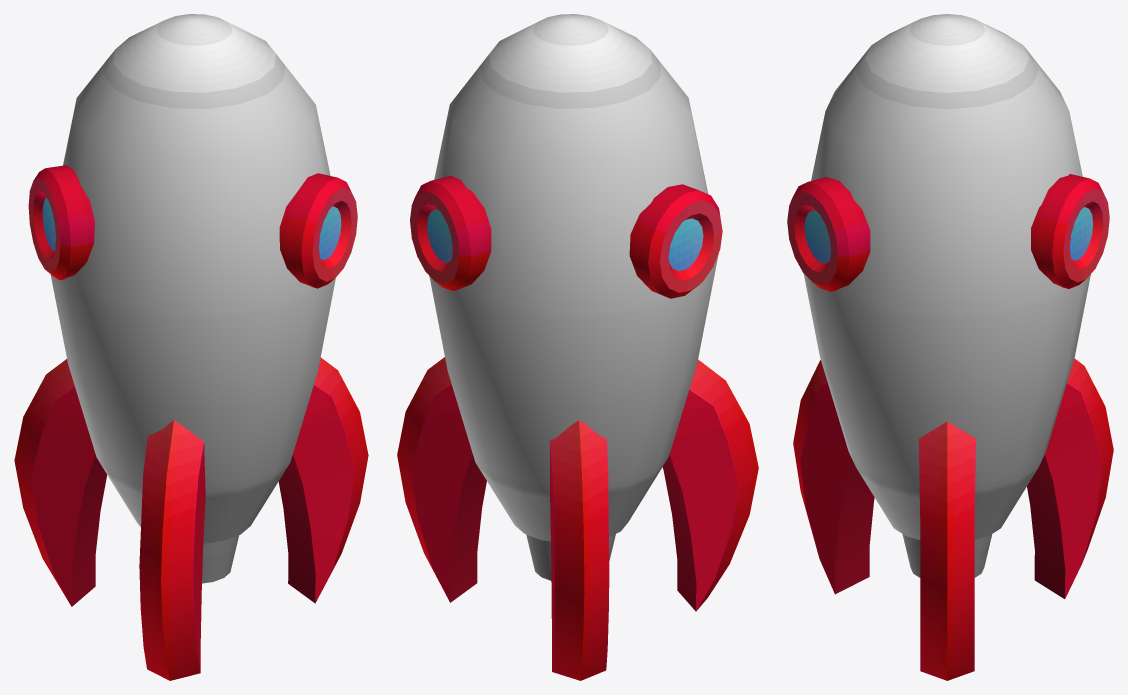
File: rocket.fbx
The picture shows the model from 3 angles, left to right: view 1: azimuth 30°, elevation 25°; view 2: azimuth 150°, elevation 25°; view 3: azimuth 270°, elevation 25°; orthographic projection.
Parts seen in each view (by area): view 1: rocket; view 2: rocket; view 3: rocket.
Part boxes in pixels (left/top/right/bottom): rocket: left=14, top=14, right=368, bottom=680; rocket: left=397, top=14, right=758, bottom=680; rocket: left=787, top=14, right=1113, bottom=680.
Bounding box in the file's own units: 101 × 183 × 90.61.
